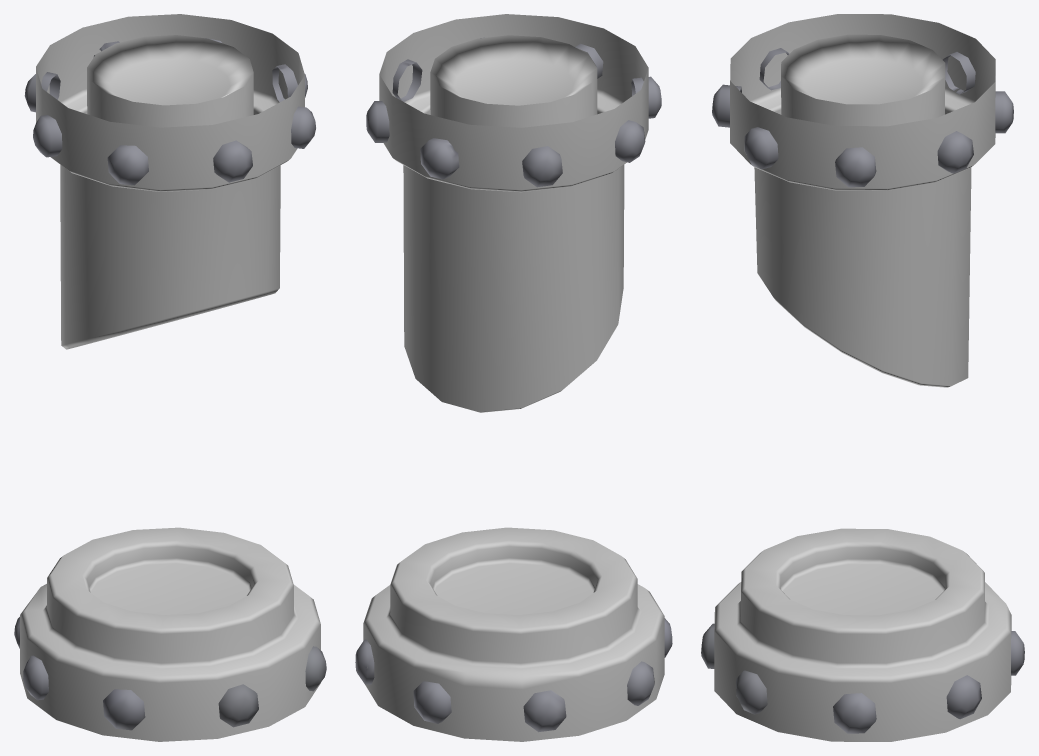
3 renders of one model, left to right at view 1: azimuth 30°, elevation 25°; view 2: azimuth 150°, elevation 25°; view 3: azimuth 270°, elevation 25°, orthographic.
Parts seen in each view (by area): view 1: SM_Lightning_Conductor_LOD0; view 2: SM_Lightning_Conductor_LOD0; view 3: SM_Lightning_Conductor_LOD0.
Boxes of the visible parts, x1=… form: SM_Lightning_Conductor_LOD0: x1=14, y1=14, x2=326, y2=741; SM_Lightning_Conductor_LOD0: x1=355, y1=14, x2=672, y2=741; SM_Lightning_Conductor_LOD0: x1=701, y1=14, x2=1024, y2=741.
Bounding box in the file's own units: 0.2286 × 0.4748 × 0.2286.
